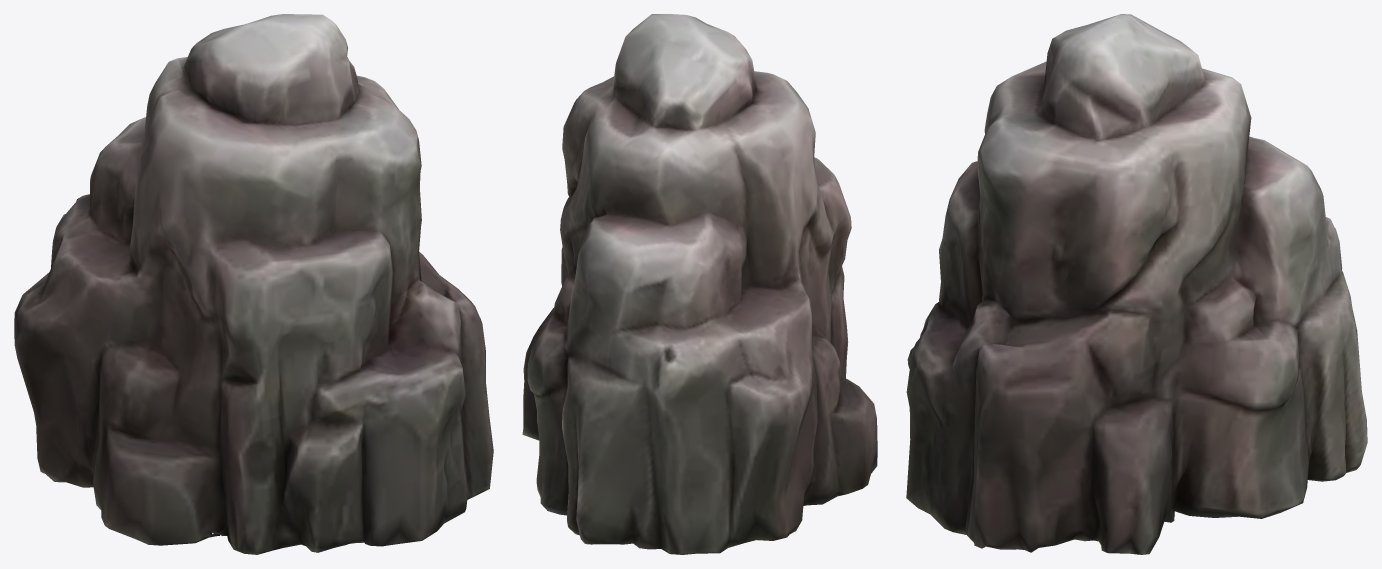
Rendered from stylized-rock-07.glb.
The picture shows the model from 3 angles, left to right: view 1: azimuth 30°, elevation 25°; view 2: azimuth 150°, elevation 25°; view 3: azimuth 270°, elevation 25°; orthographic projection. The views are drawn at different scales.
Visible parts, largest first — view 1: Big_3; view 2: Big_3; view 3: Big_3.
Part boxes in pixels (left/top/right/bottom): Big_3: left=14, top=14, right=493, bottom=554; Big_3: left=522, top=14, right=877, bottom=554; Big_3: left=906, top=14, right=1367, bottom=554.
Size of the model in its own units: 3.68 by 4.6 by 4.21.
1 material, 1 textured.
